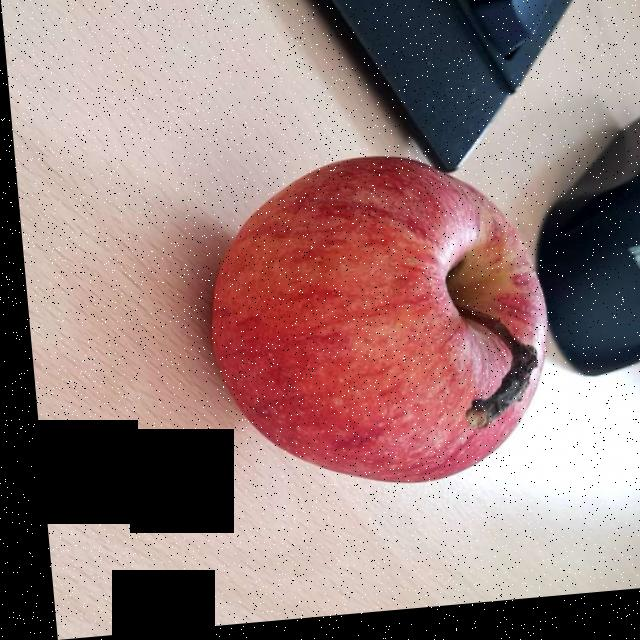apple: (208, 170, 531, 482)
